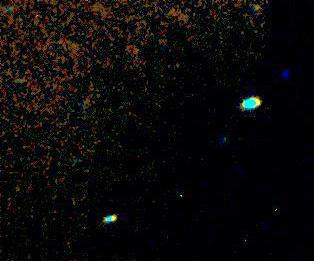star: (225, 157, 255, 187)
